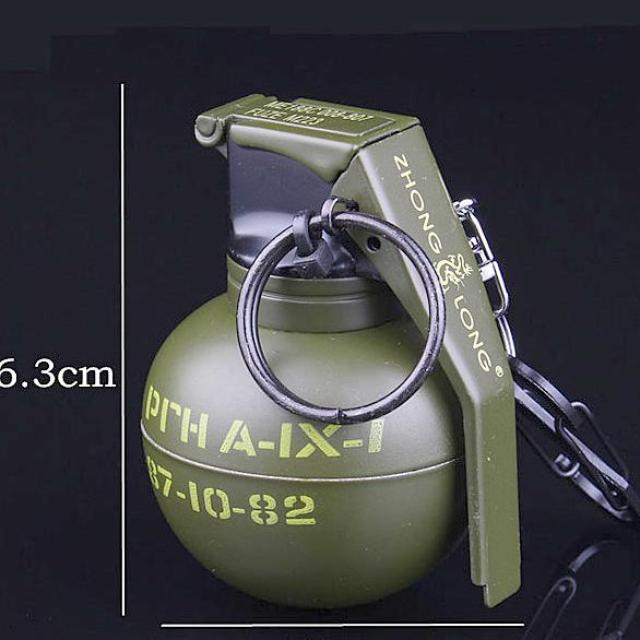grenade: (141, 95, 523, 620)
